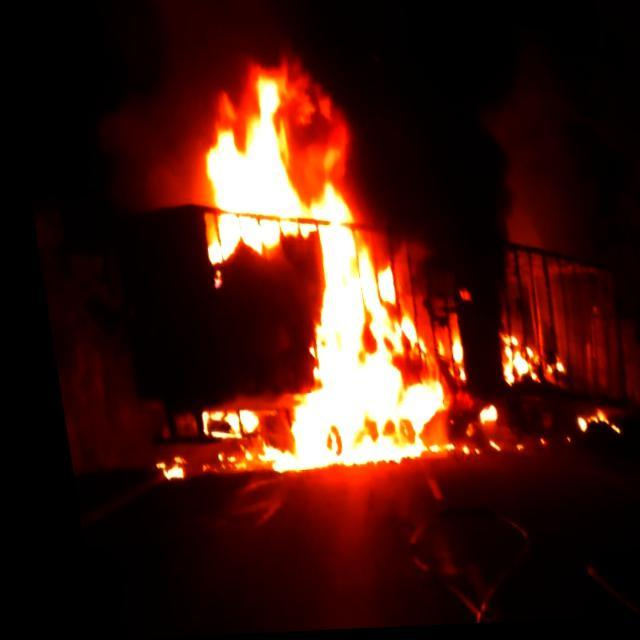Fire: (168, 56, 491, 467), (486, 337, 554, 395), (560, 412, 609, 446), (138, 458, 174, 480)
